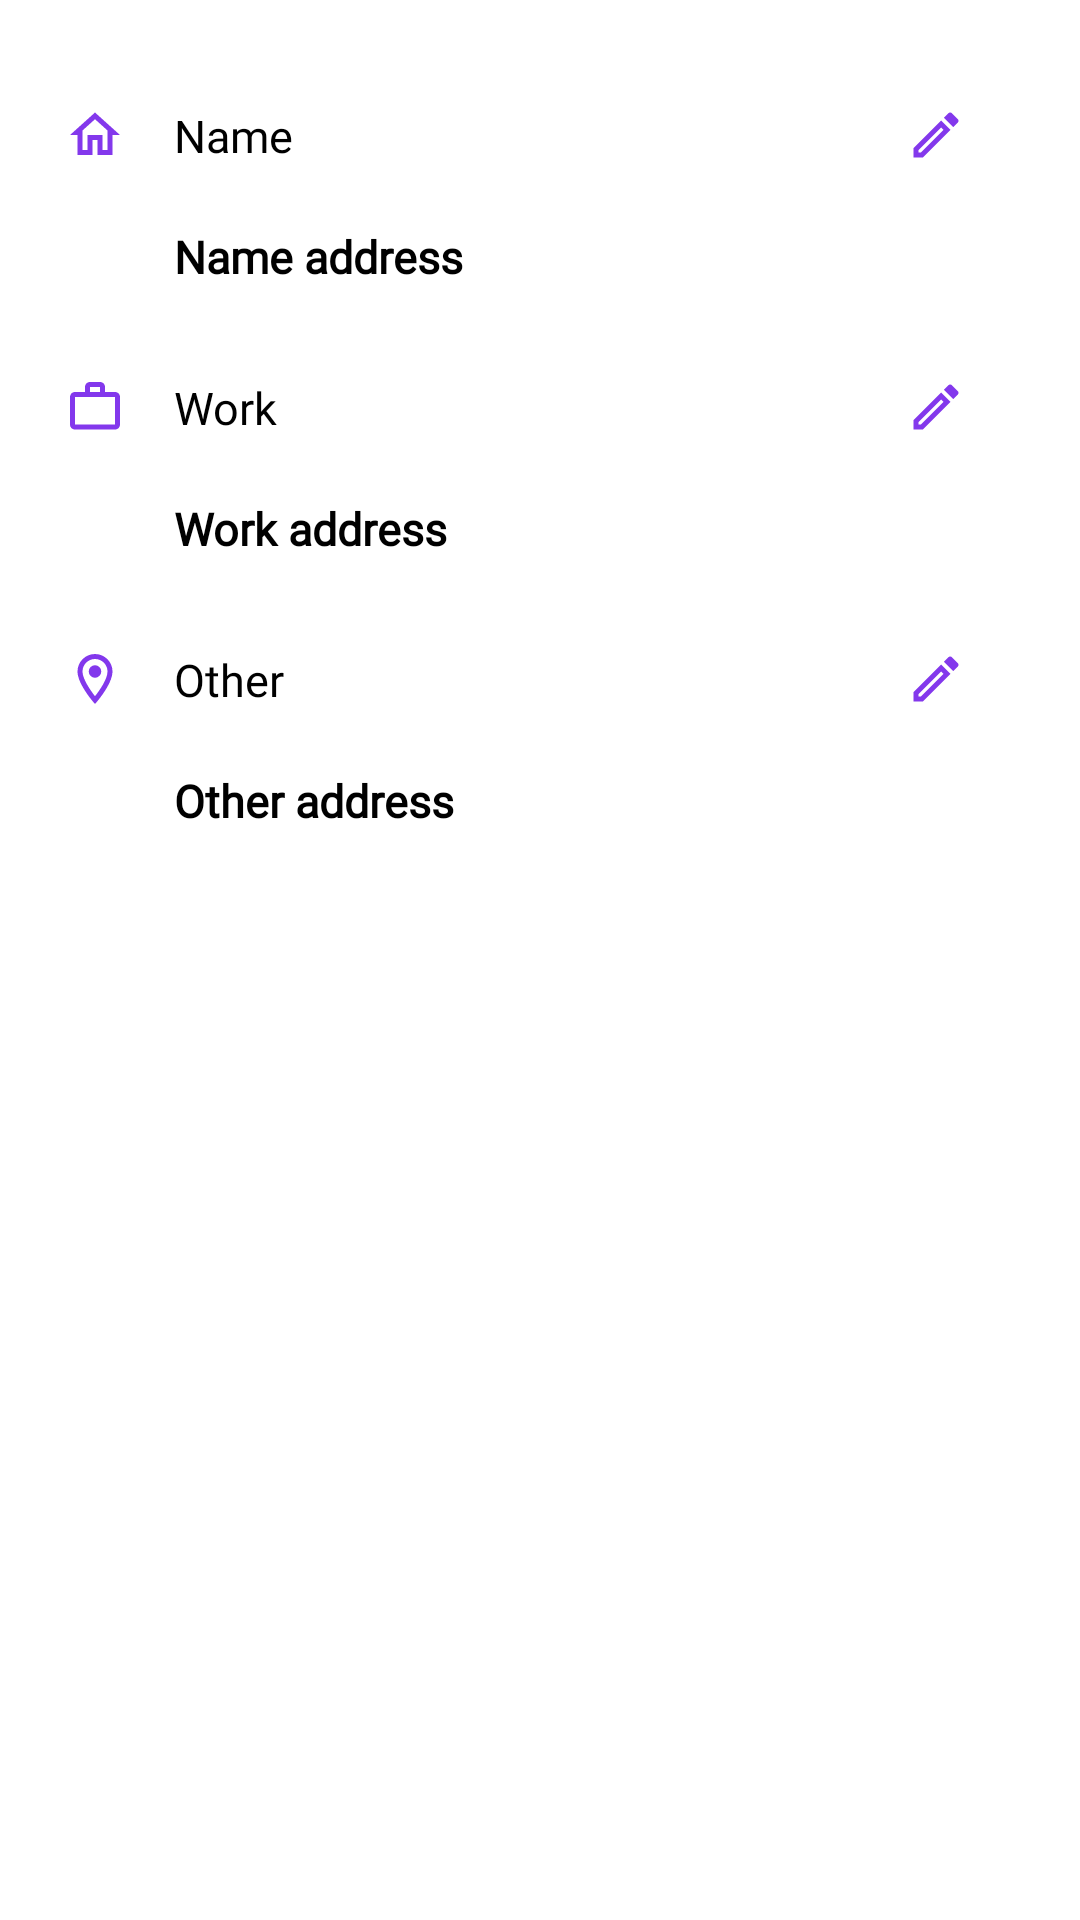

Where to tap for icons on this 1080×1920 app screen, as point (x, y):
home: point (95, 133)
location on: point (95, 679)
mode: point (936, 135), point (936, 407), point (936, 679)
